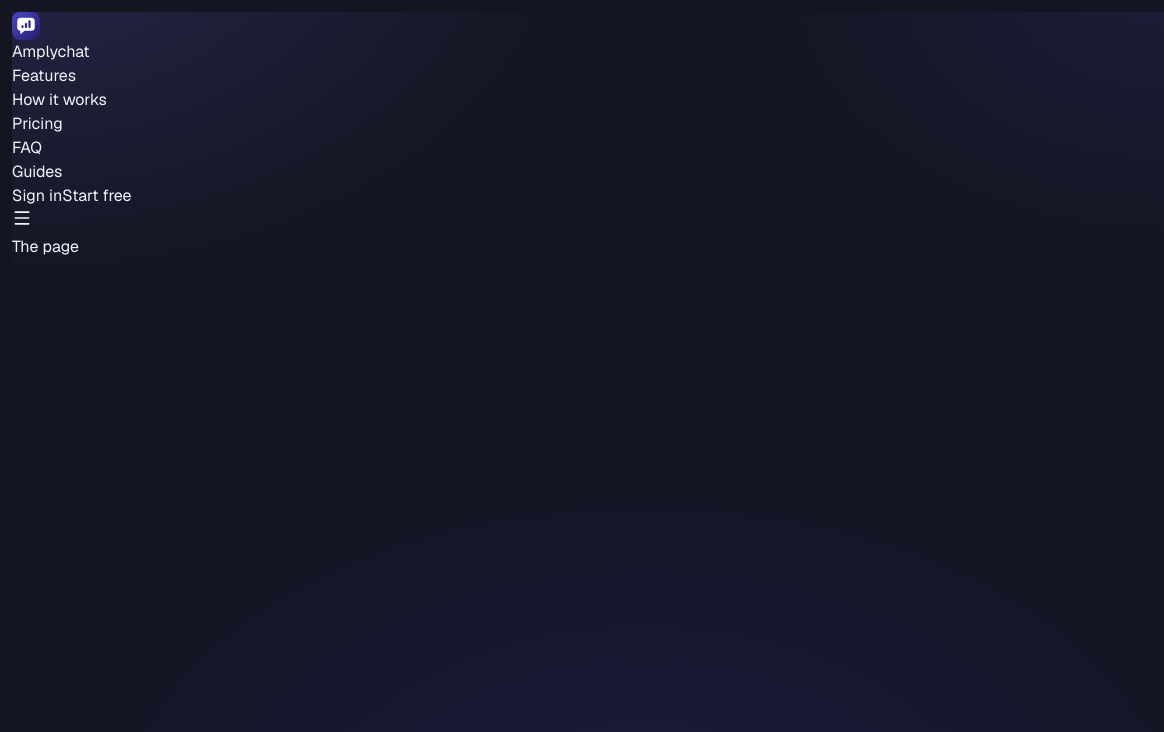
the site header › the phone menu closes on a tap outside it
Click the button named "Open menu". click: (22, 218)
box: [12,208,32,228]
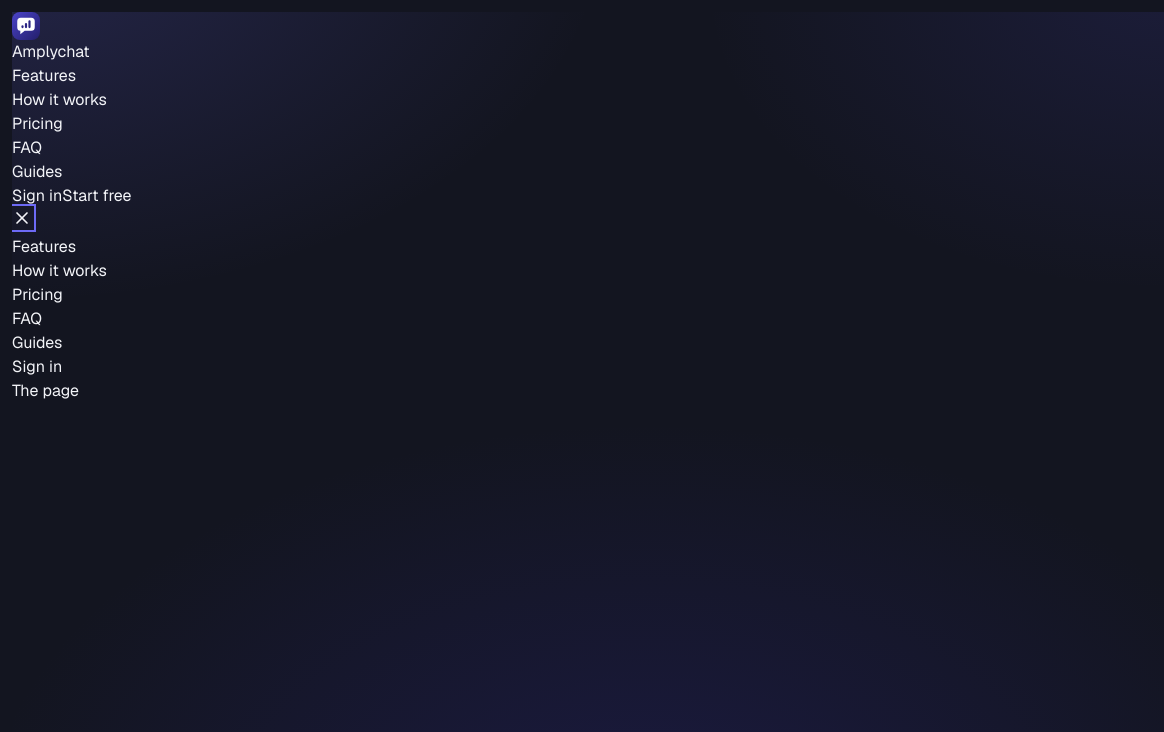
Result: the button named "Close menu" is expanded at [12,208,32,228]
Click the text "The page". click: (46, 390)
box: [12,380,79,401]
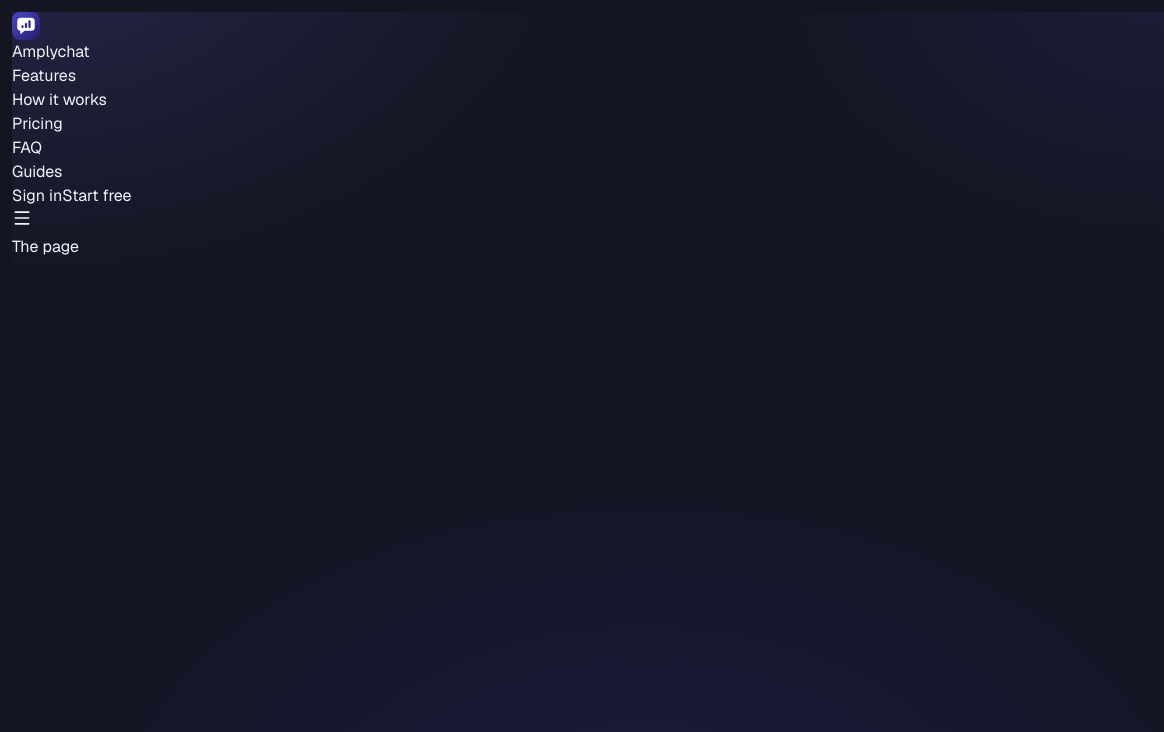
Result: the button named "Open menu" is collapsed at [12,208,32,228]
